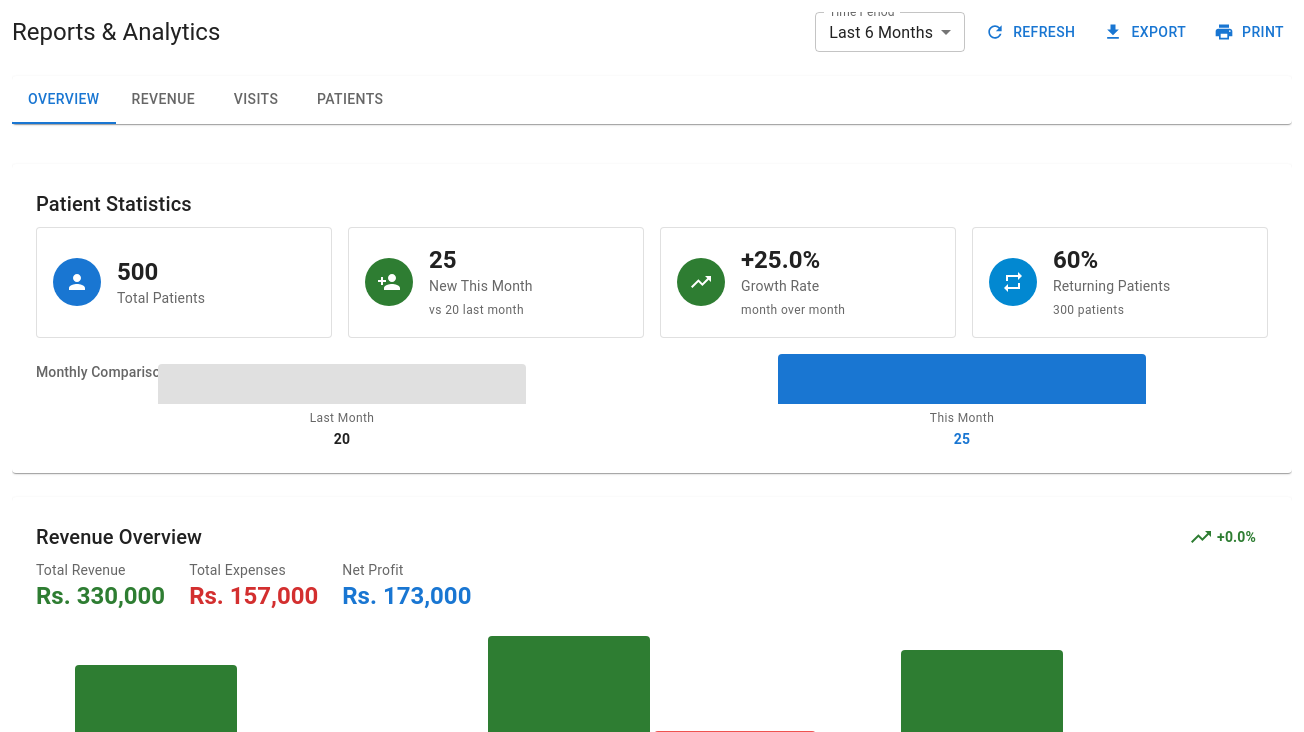
Reports › Tab navigation › switches to Revenue tab when clicked
Check: the heading "Reports & Analytics" is shown, box x1=12 y1=16 x2=220 y2=48
Click the tab "Revenue" at (163, 100), box x1=116 y1=76 x2=211 y2=124
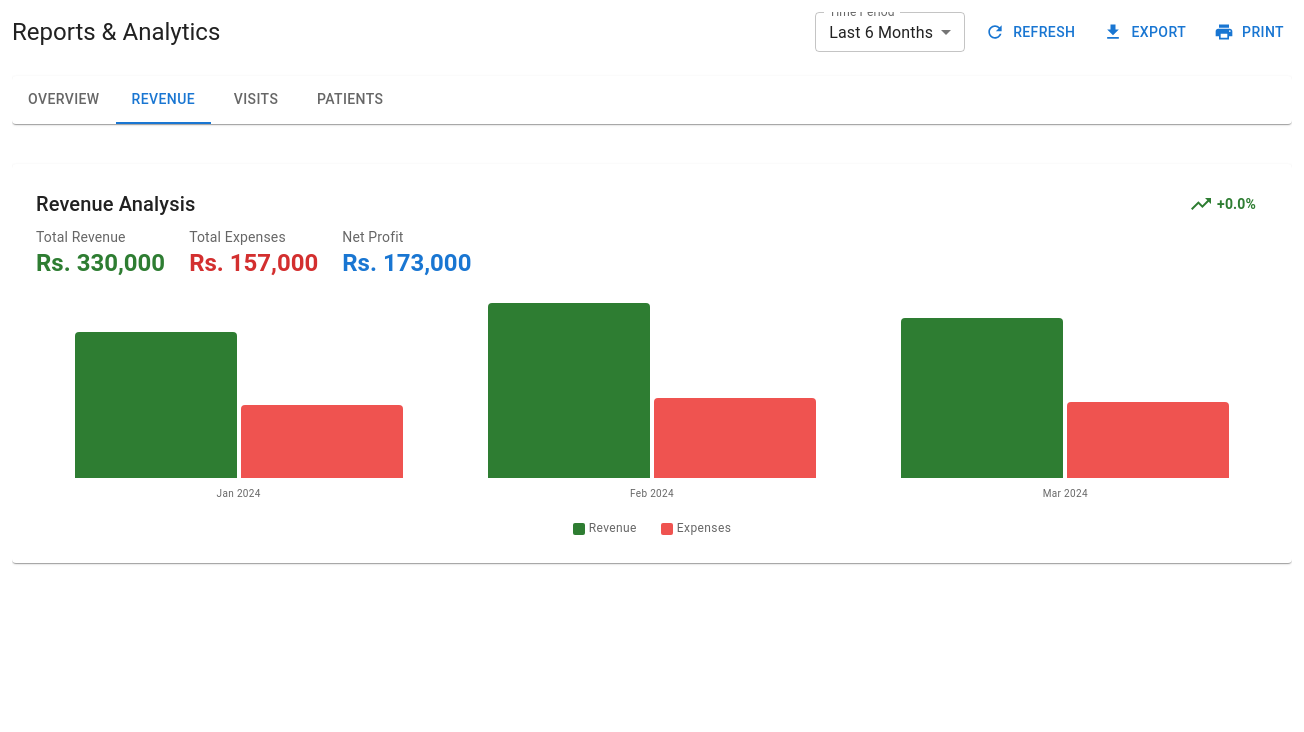
Check: the heading "Revenue Analysis" is shown, box x1=36 y1=192 x2=195 y2=216
